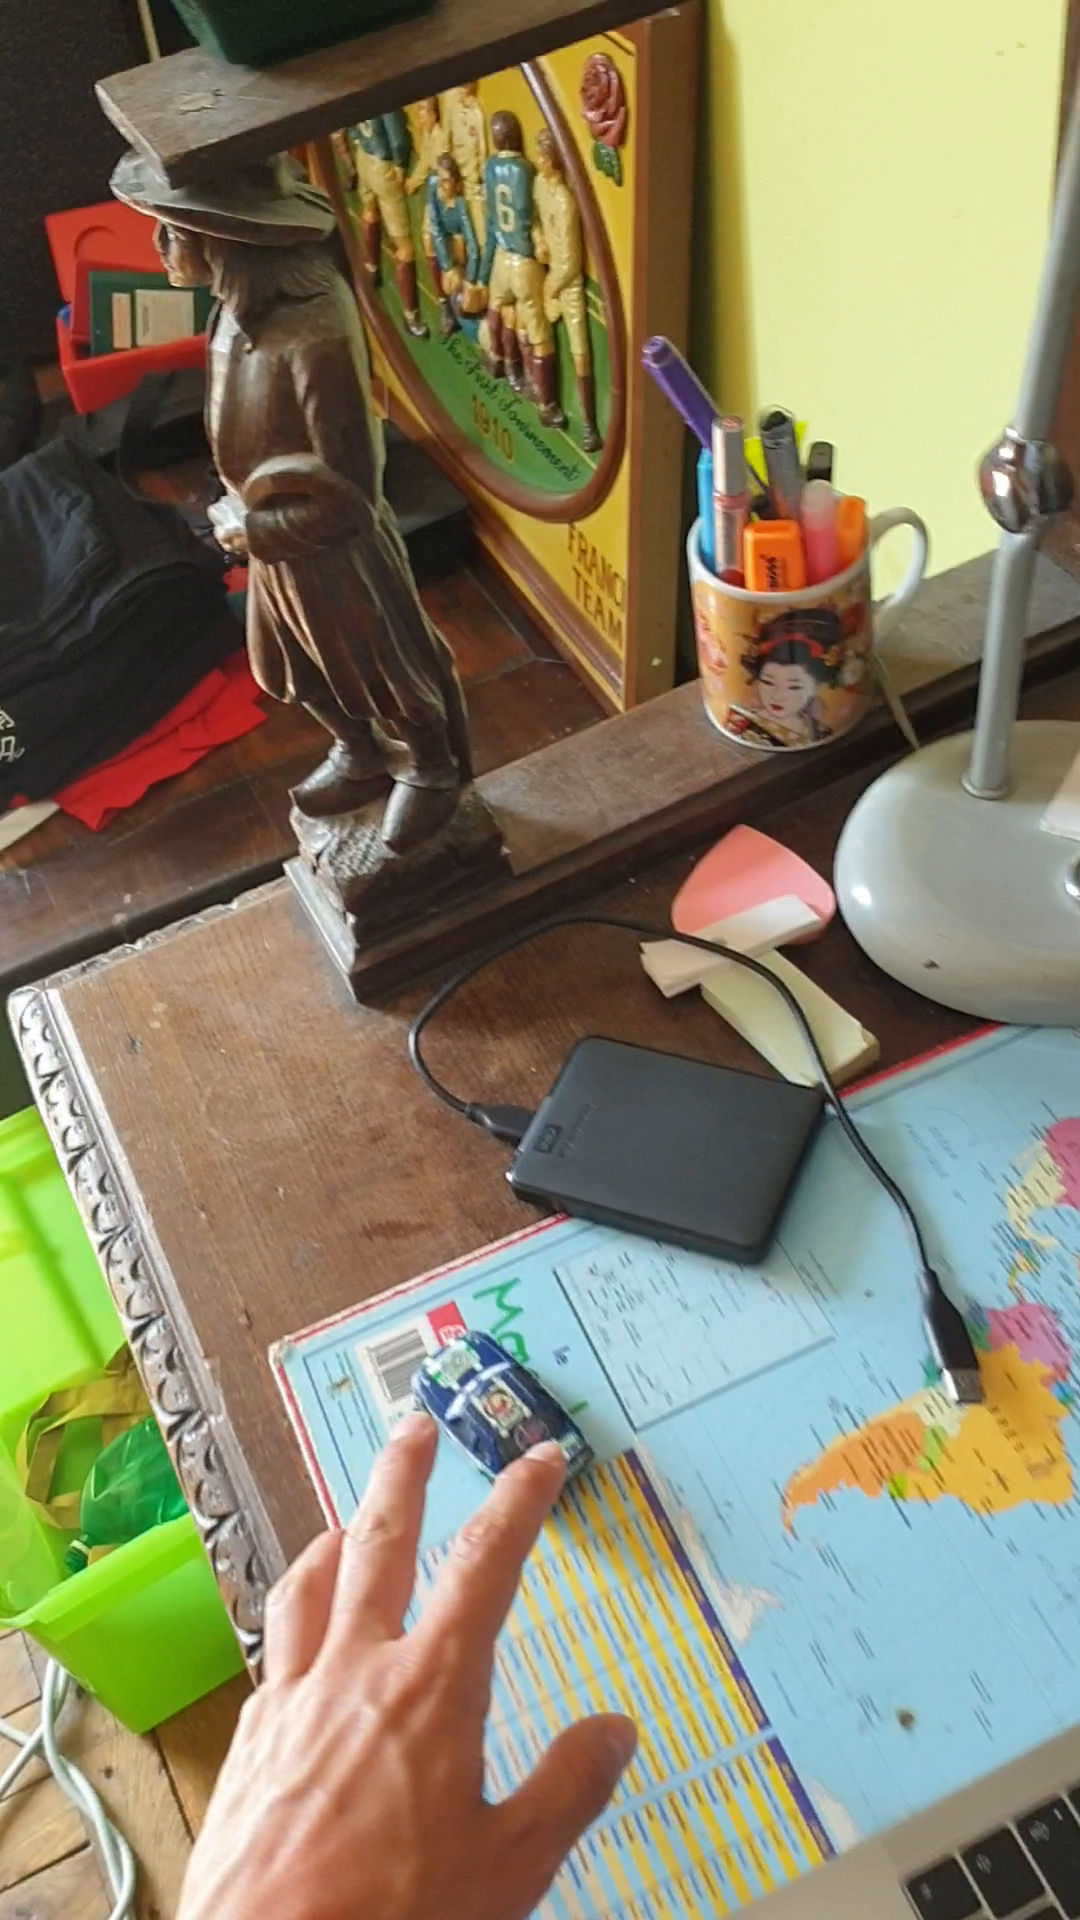cars: (404, 1327, 585, 1506)
